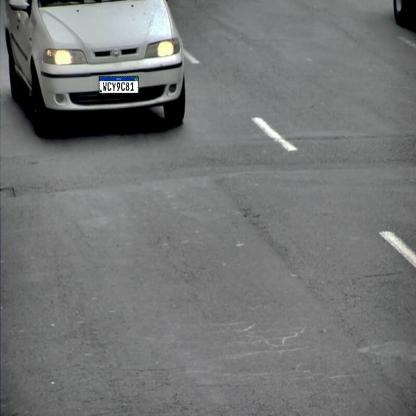PlacaM: (99, 76, 139, 94)
